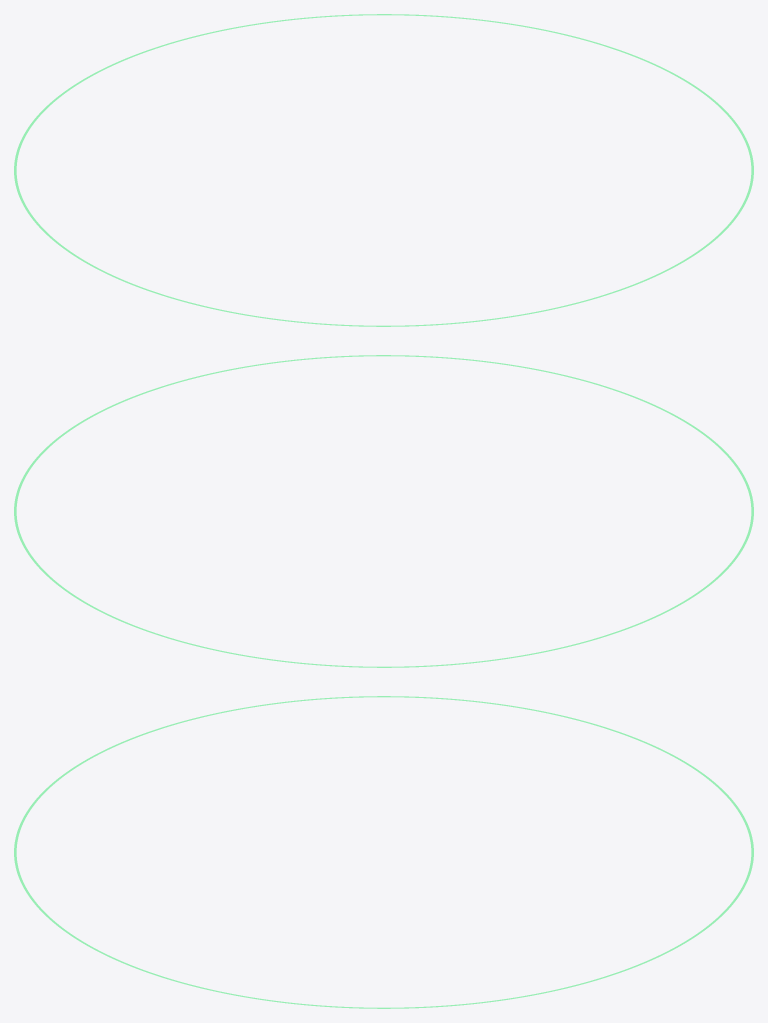
File: ocean-area-common-edge-v1.glb
3 renders of one model, top to bottom at view 1: azimuth 30°, elevation 25°; view 2: azimuth 150°, elevation 25°; view 3: azimuth 270°, elevation 25°, orthographic.
Visible parts, largest first — view 1: common outer edge; view 2: common outer edge; view 3: common outer edge.
Part boxes in pixels (x1,y1,x2,y2): common outer edge: [14, 14, 753, 326]; common outer edge: [14, 355, 753, 667]; common outer edge: [14, 696, 753, 1008].
Bounding box in the file's own units: 2 × 0 × 2.
